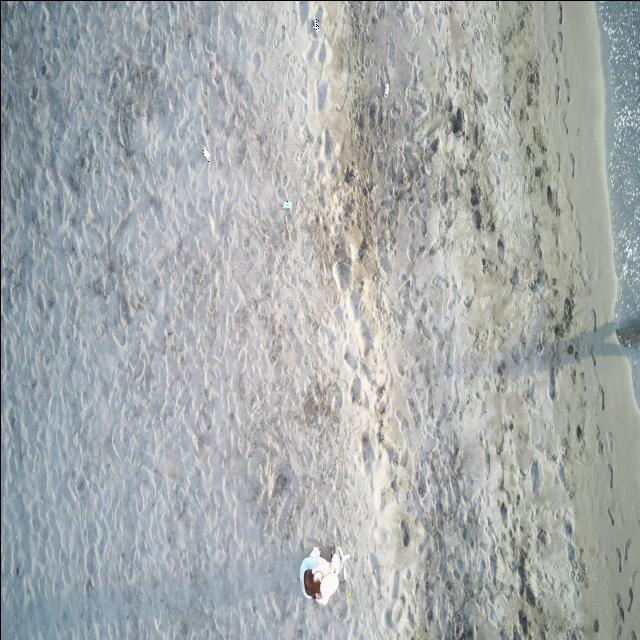Garbage: (337, 547, 350, 579), (201, 147, 208, 160), (313, 16, 319, 31), (283, 200, 289, 208), (384, 81, 387, 96)
